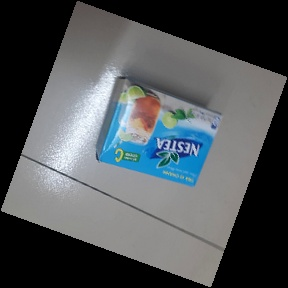Nestea: (96, 75, 224, 189)
